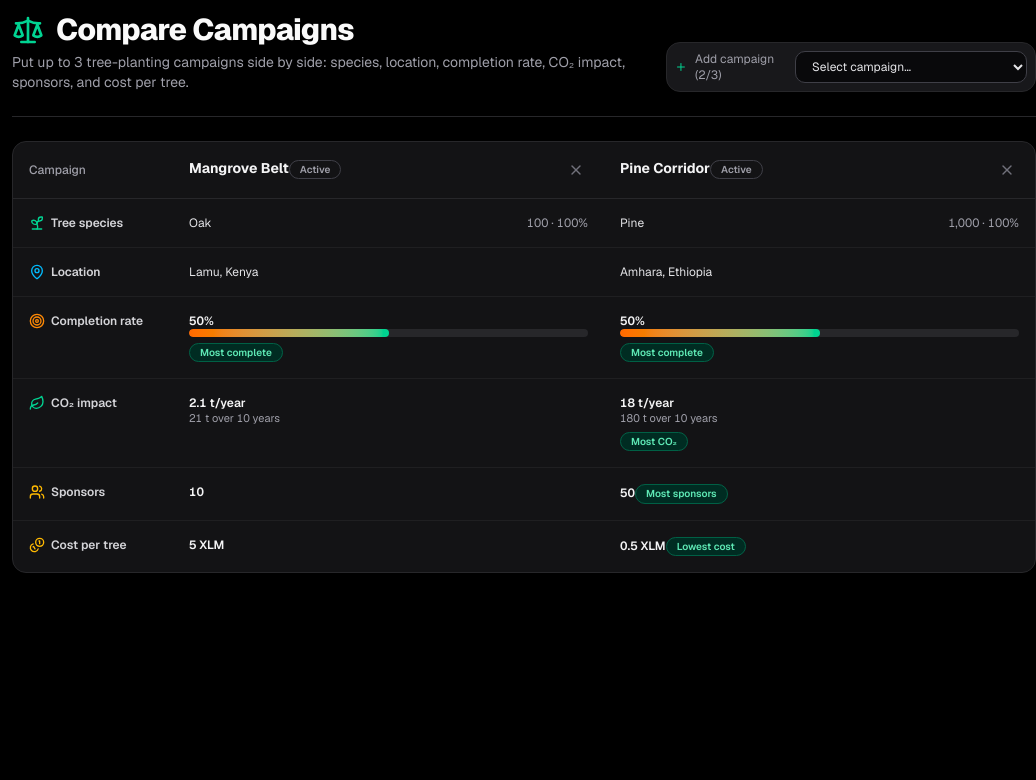
Test: CampaignSideBySideComparison › removes a campaign from the comparison
Expected: the link "Pine Corridor" is shown, [620,159,710,177]
What coordinates should you click on to do the following:
click the button named "Remove Pine Corridor from comparison"
I would click on:
 (1007, 170)
Its box is [995,158,1019,182].
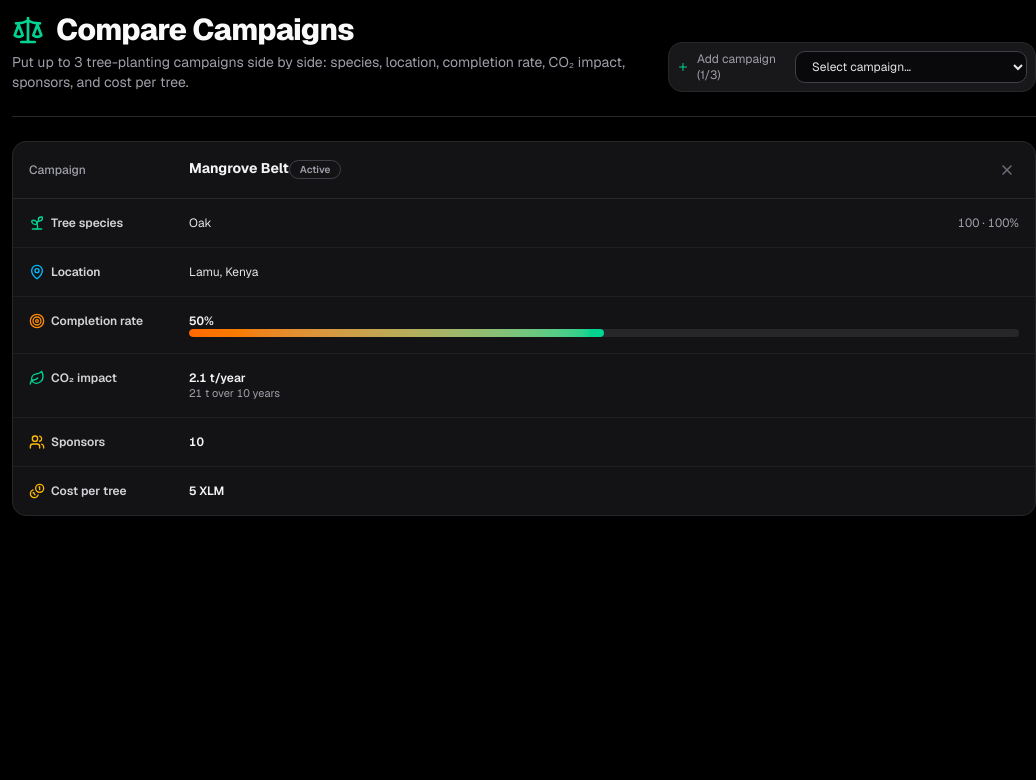
Expected: the link "Pine Corridor" is gone
